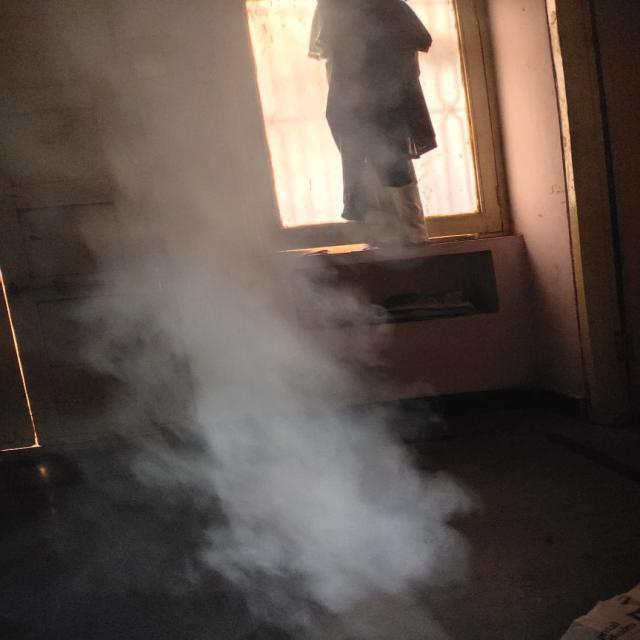fire: (56, 98, 477, 612)
